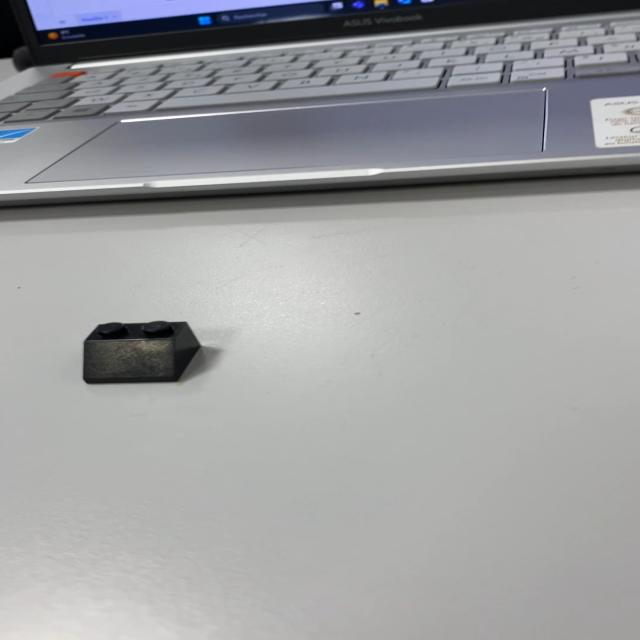P2x2x1: (62, 312, 269, 382)
